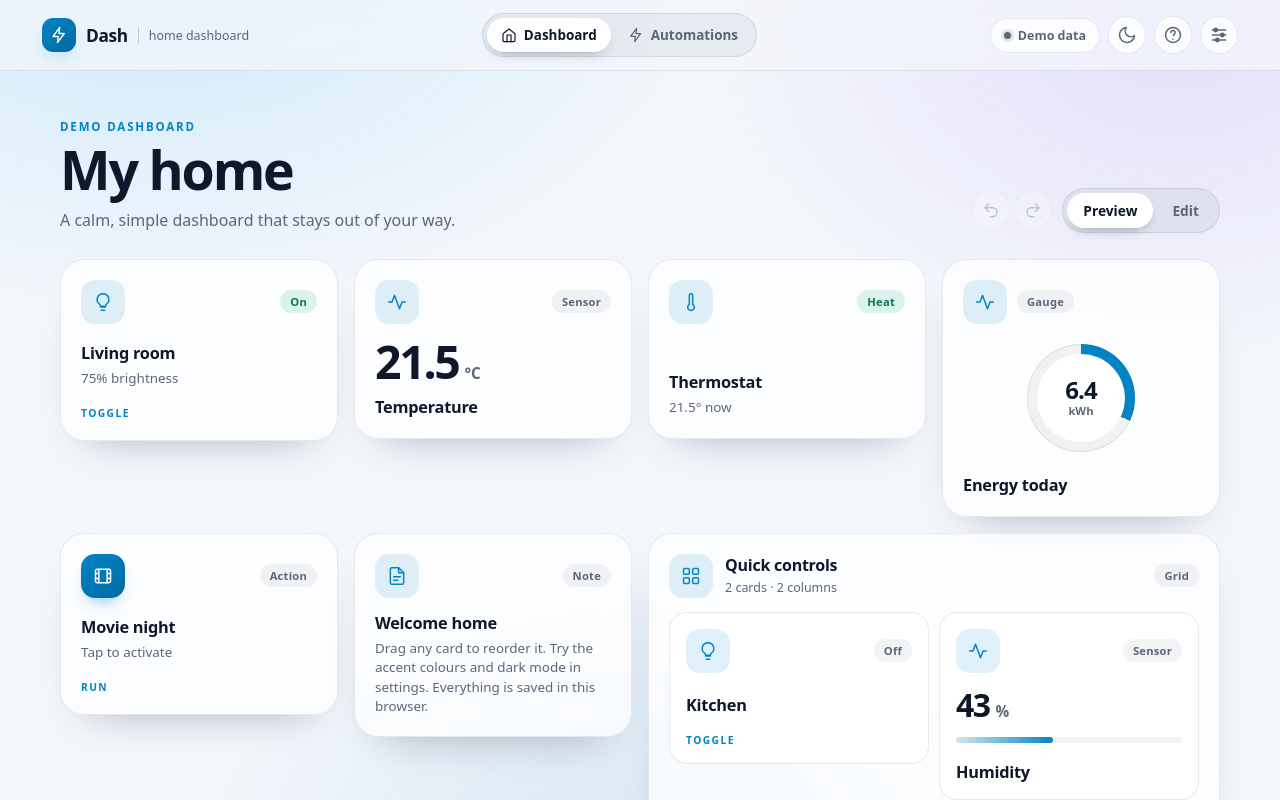
Test: Dash dashboard builder › renders the demo dashboard, toggles a light, and switches theme quickly
Expected: the heading "My home" is shown, [60,133,293,206]
Expected: the heading "Living room" is shown, [81,342,175,364]
Click the button with aria-label "On: Living room". click: point(103, 302)
box: [61,260,337,440]
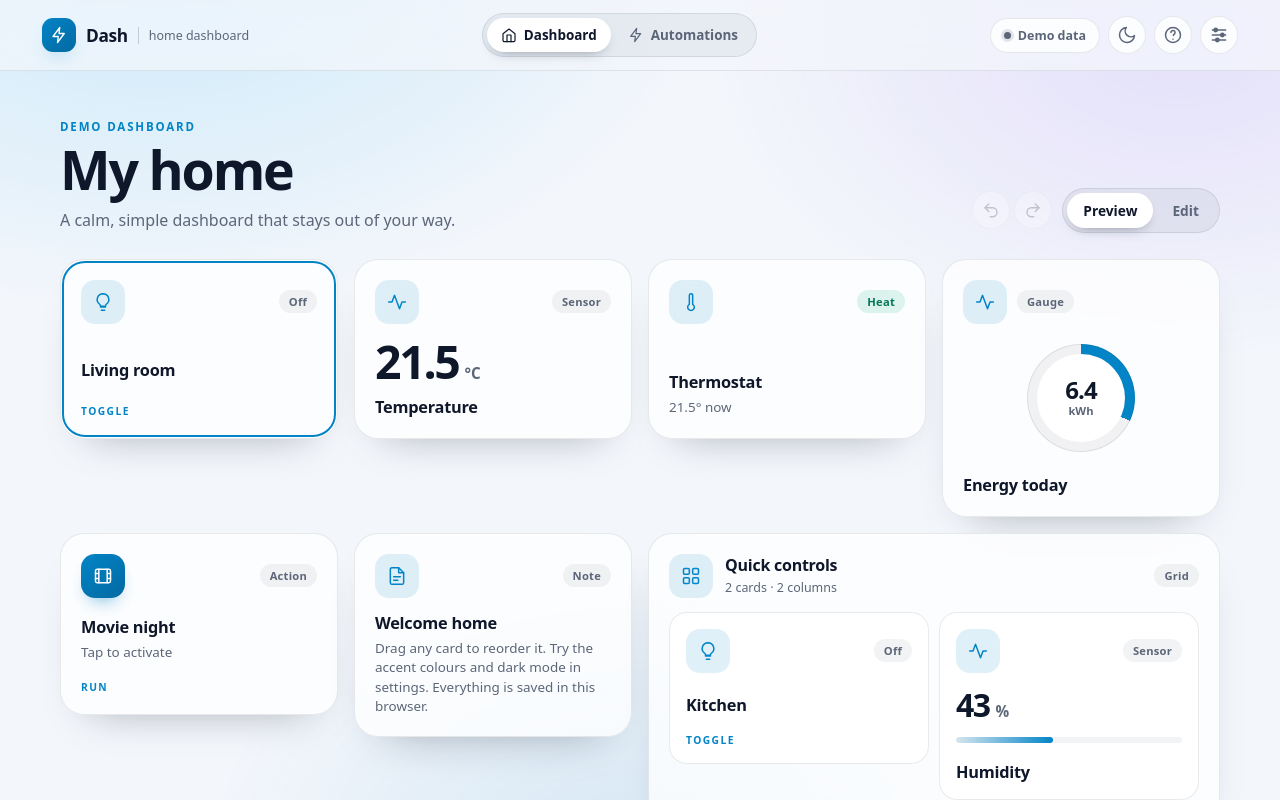
Expected: the button with aria-label "Off: Living room" is shown, [61,260,337,438]
Click the button named "switch to dark theme". click: point(1127, 35)
box: [1108,16,1146,54]
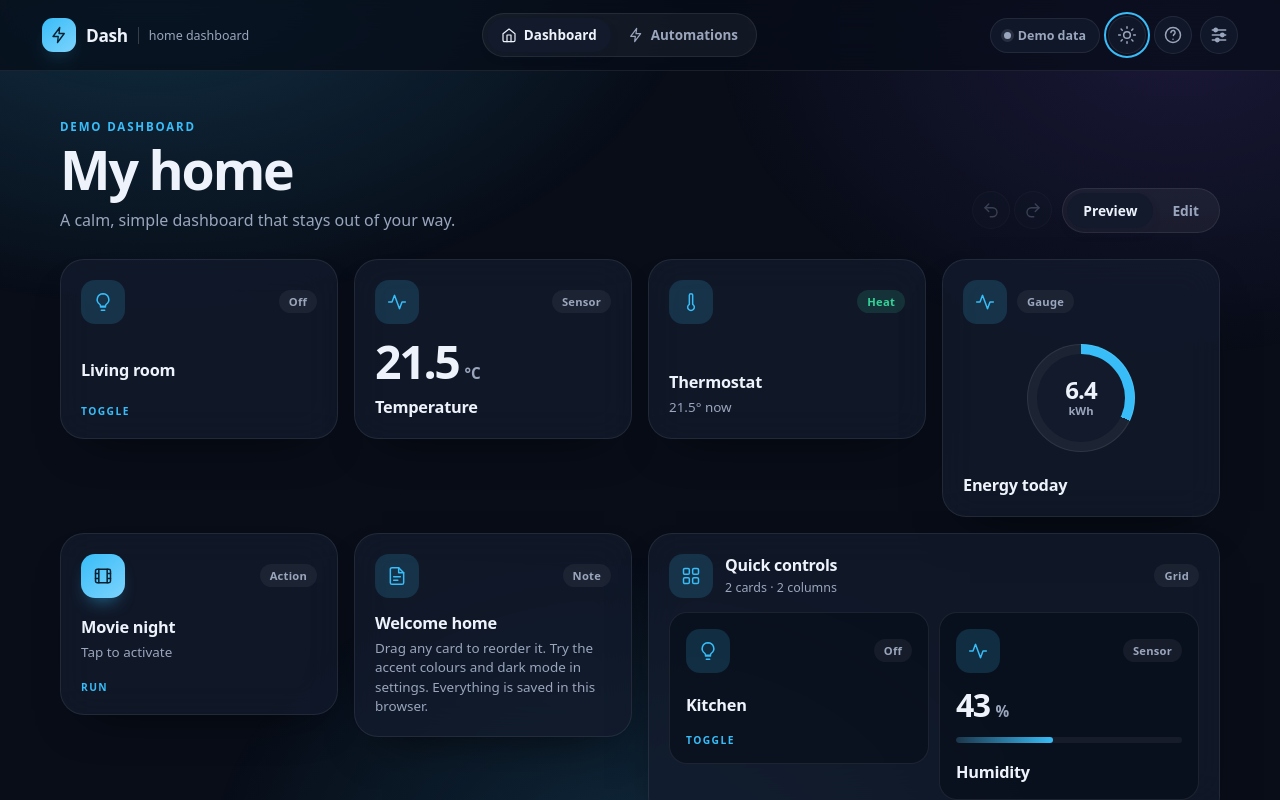
Expected: the button named "switch to light theme" is shown, [1108,16,1146,54]
